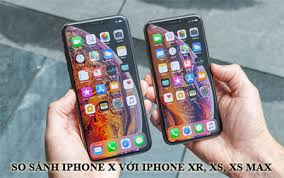iphone: (58, 13, 153, 165), (144, 14, 226, 146)
iphone10: (58, 13, 153, 165), (144, 14, 226, 146)
